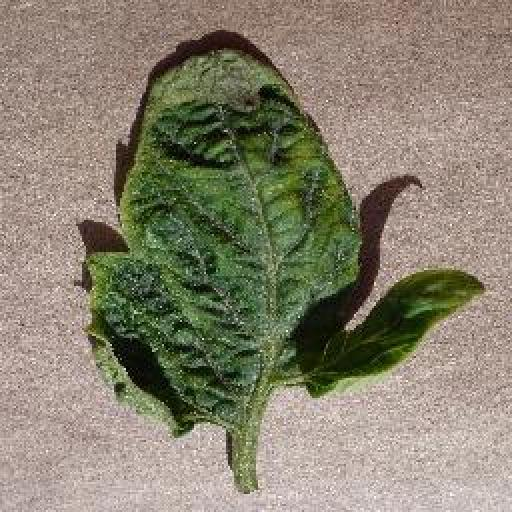disease_tomato: (82, 38, 486, 442)
